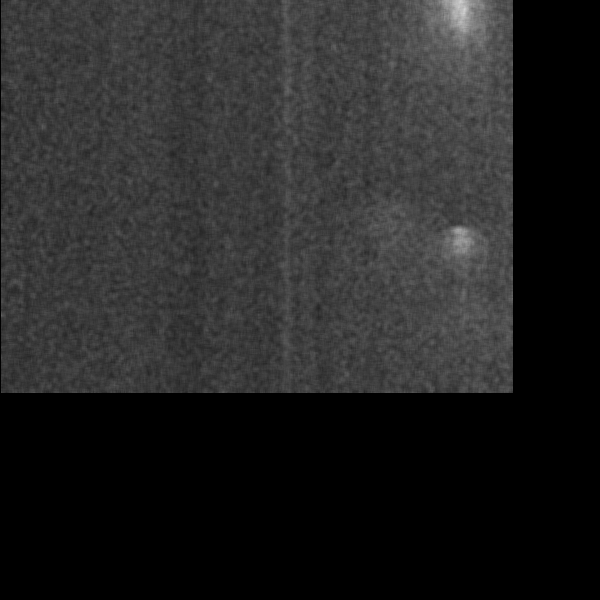spark: (223, 73, 242, 132), (367, 72, 390, 111)
